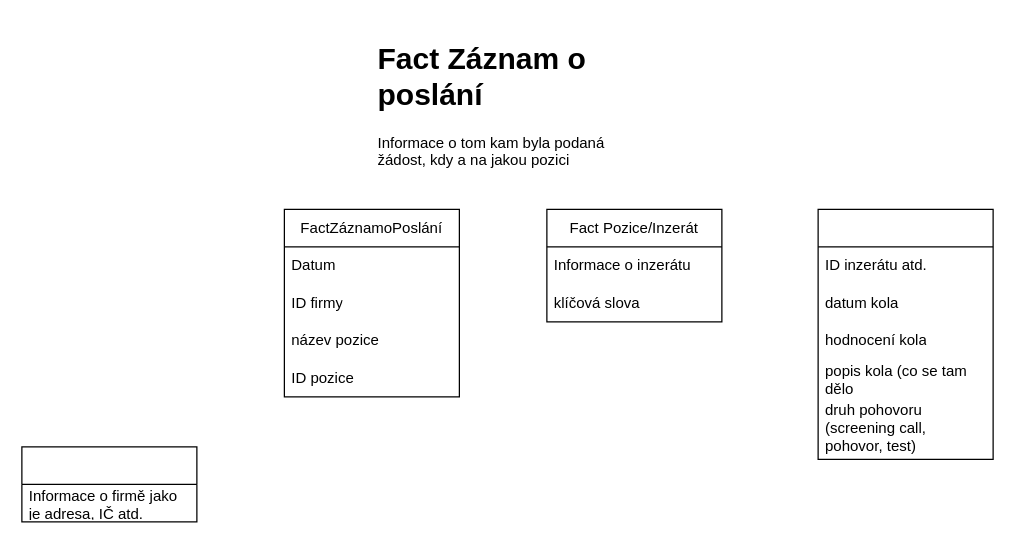
Image size: 1015x544. Some labels were removed from this diagram. Each missing label, with the box of its shape:
Dim Firma: (21, 446, 197, 522)
Fact Hodnocení kola: (817, 208, 993, 459)
